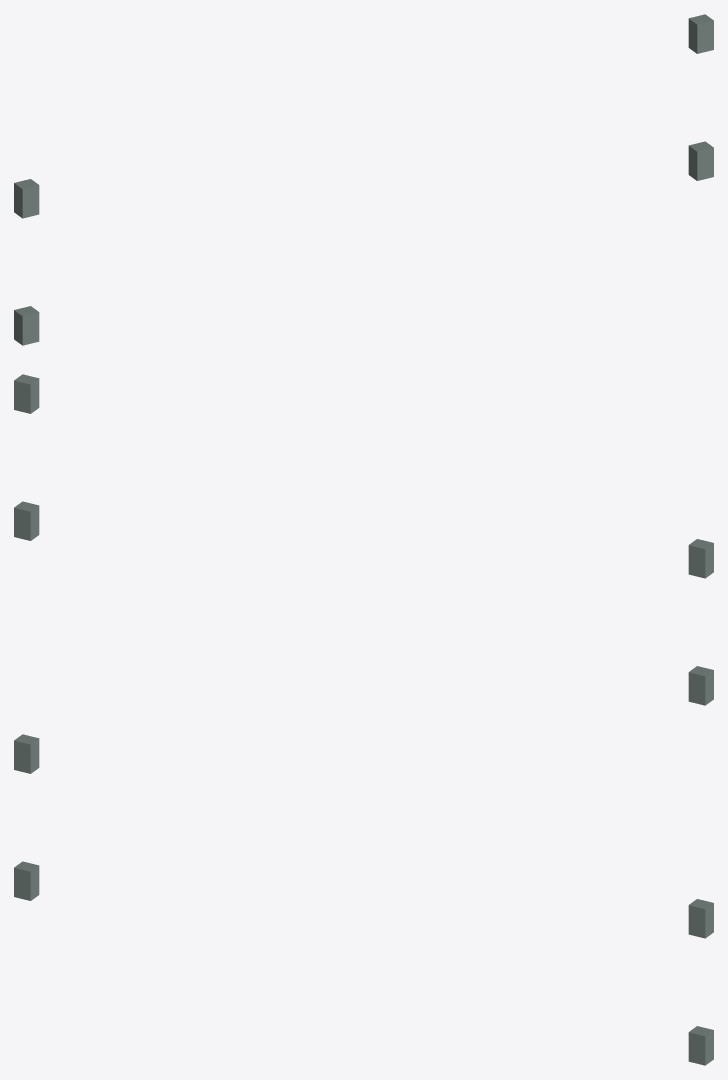
File: SM_PuertaViaDoble_v4_Blindada_e3_Brecha_LOD1.fbx
3 renders of one model, top to bottom at view 1: azimuth 30°, elevation 25°; view 2: azimuth 150°, elevation 25°; view 3: azimuth 330°, elevation 25°, orthographic.
Visible parts, largest first — view 1: Hoja_E, Hoja_O; view 2: Hoja_E, Hoja_O; view 3: Hoja_E, Hoja_O.
Boxes of the visible parts, x1,y1,x2,y2 form: Hoja_E: (688, 14, 713, 180); Hoja_O: (14, 179, 39, 345); Hoja_E: (14, 374, 39, 540); Hoja_O: (688, 539, 713, 705); Hoja_E: (688, 899, 713, 1065); Hoja_O: (14, 734, 39, 900).
Size of what is drawn, in the model's own units: 7.4 by 1.6 by 0.16.
